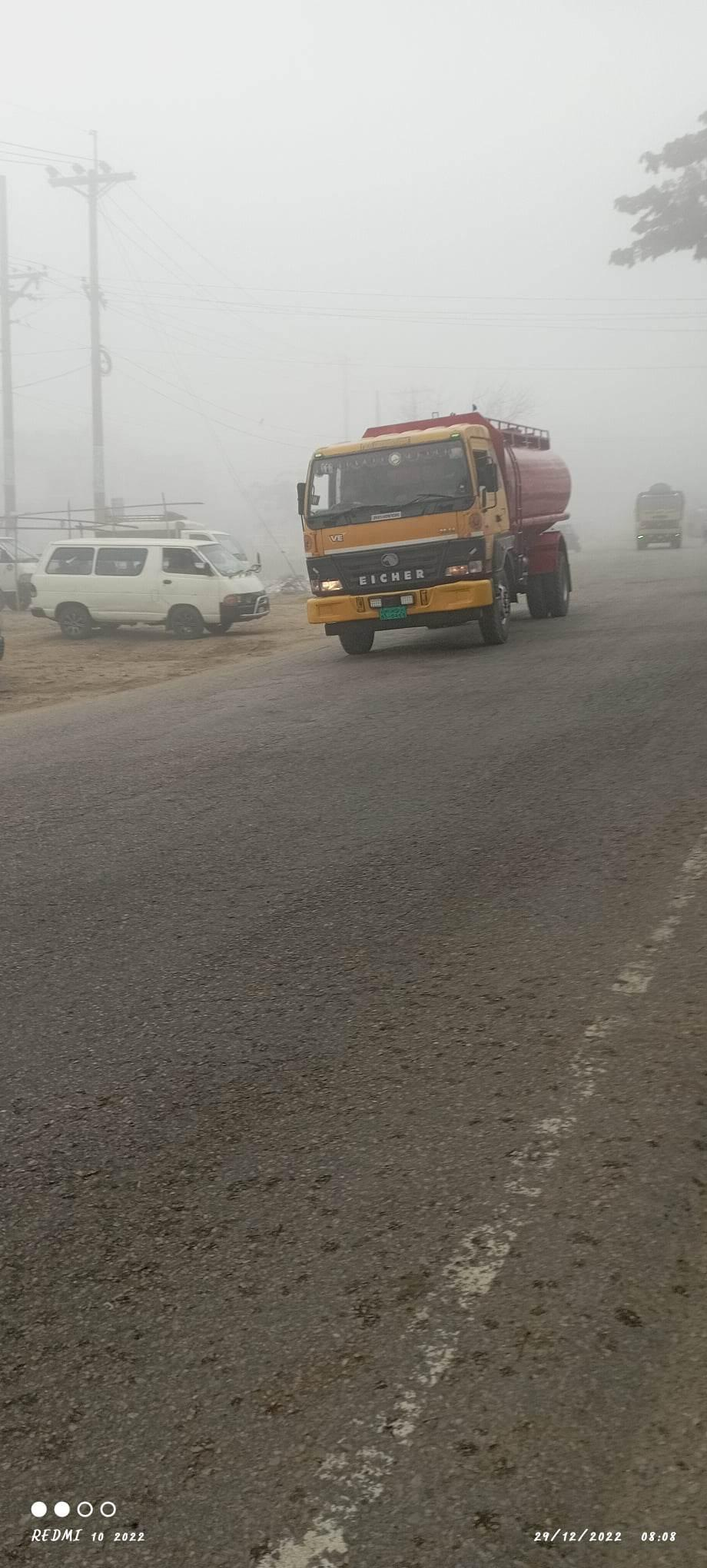Car: (19, 517, 274, 655)
Truck: (283, 427, 593, 655), (626, 467, 703, 571)
